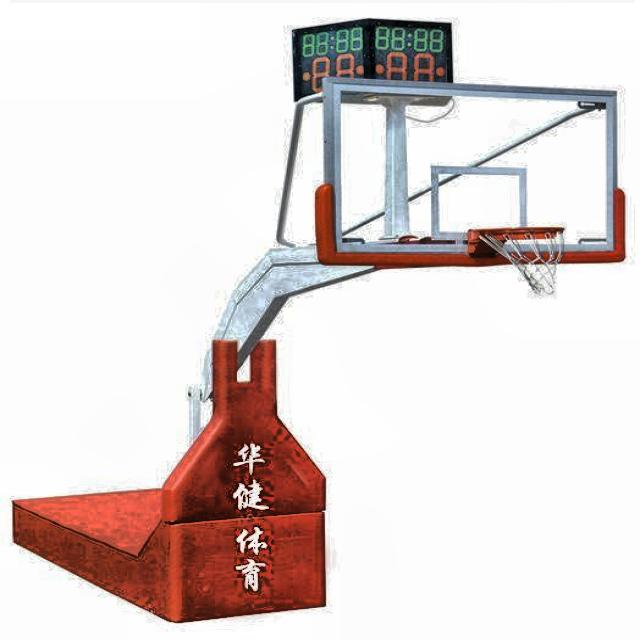rim: (472, 228, 567, 298)
